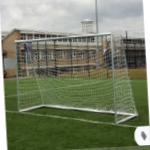goals: (13, 31, 139, 125)
